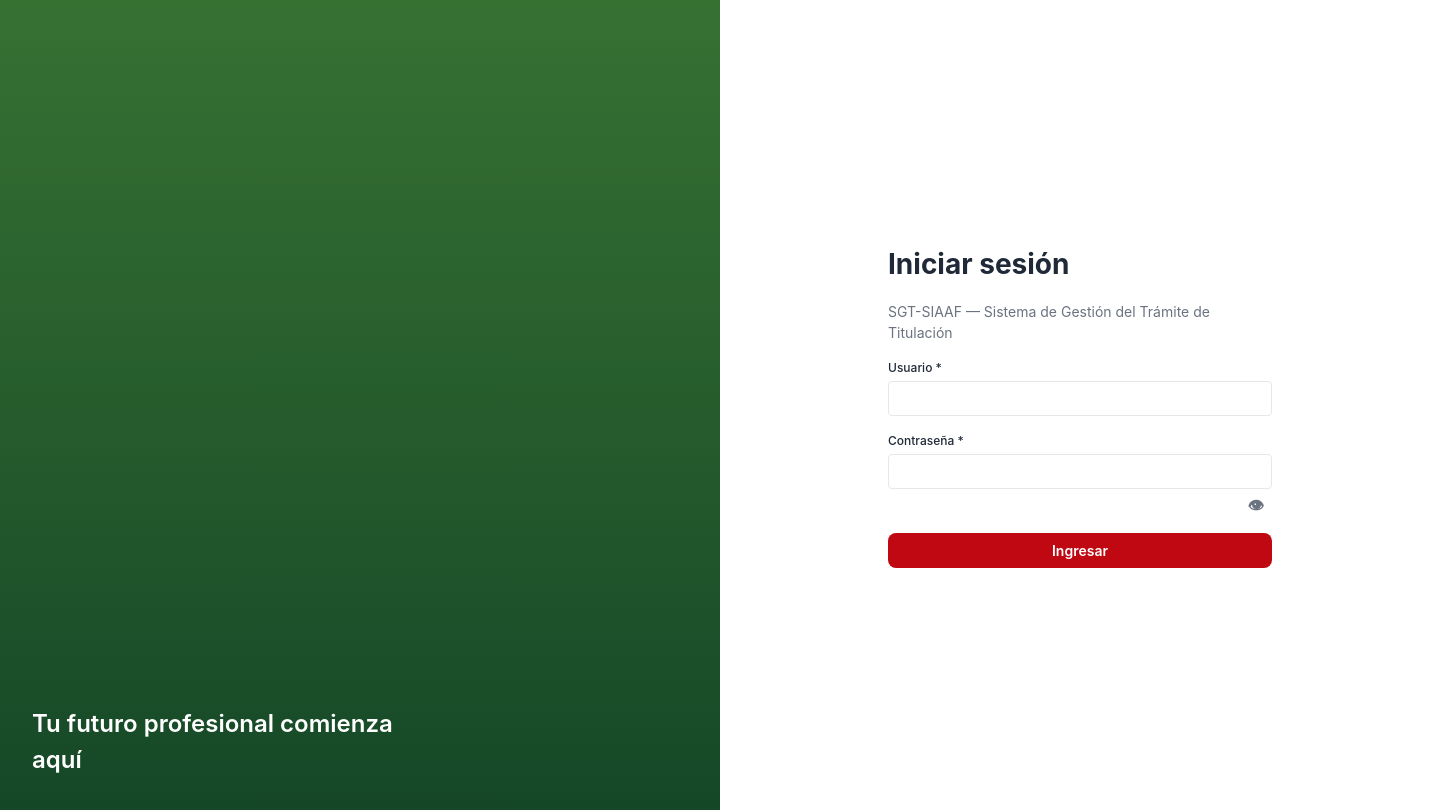
Test: LoginPage (V-01, integración real) › CA-V01-03b: muestra un estado de error ante una falla de red
Type "estudiante.demo" into the field labelled "Usuario *" at {"x": 1080, "y": 398}, box [888,380,1272,416]
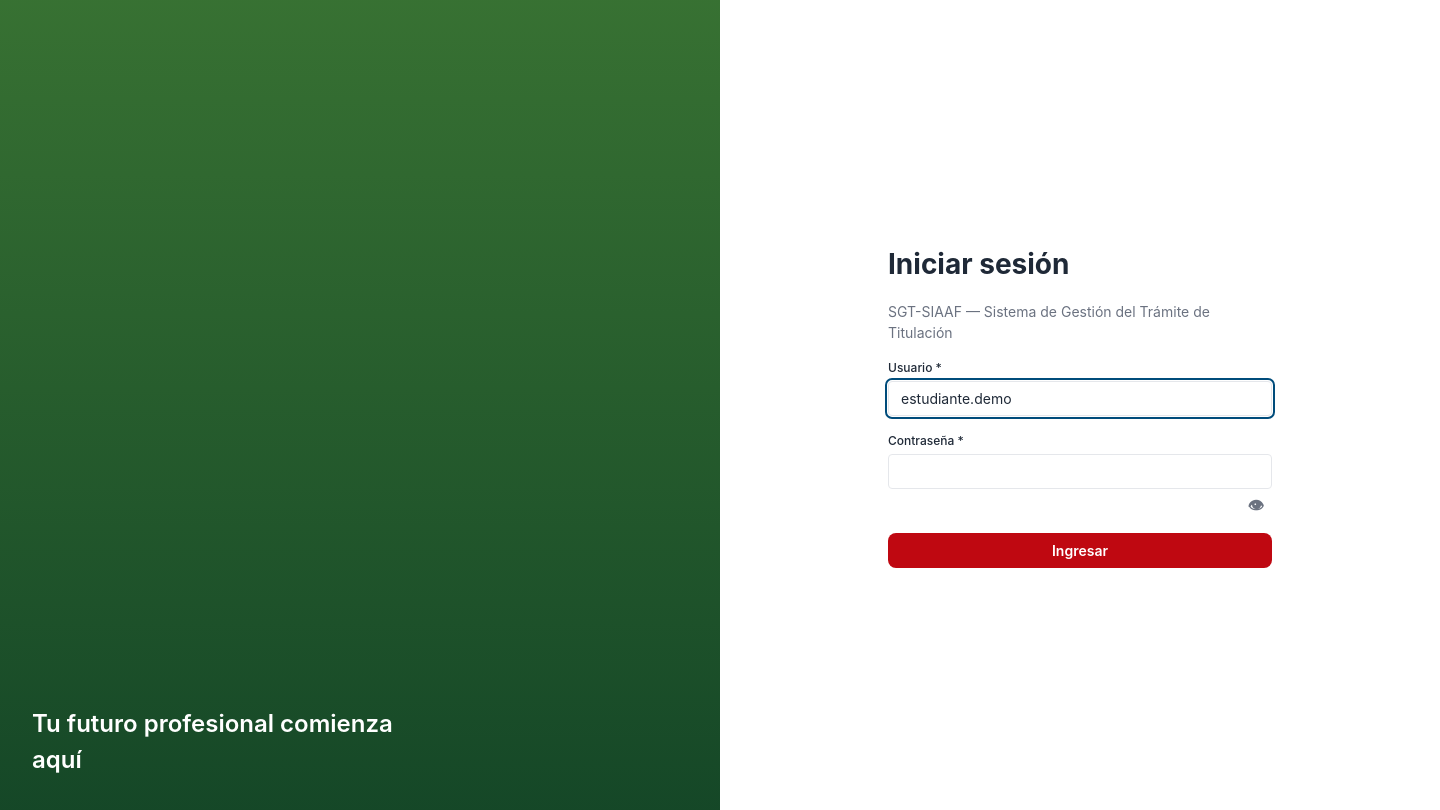
Type "demo-valida" into the password field labelled "Contraseña *" at {"x": 1080, "y": 471}, box [888,454,1272,488]
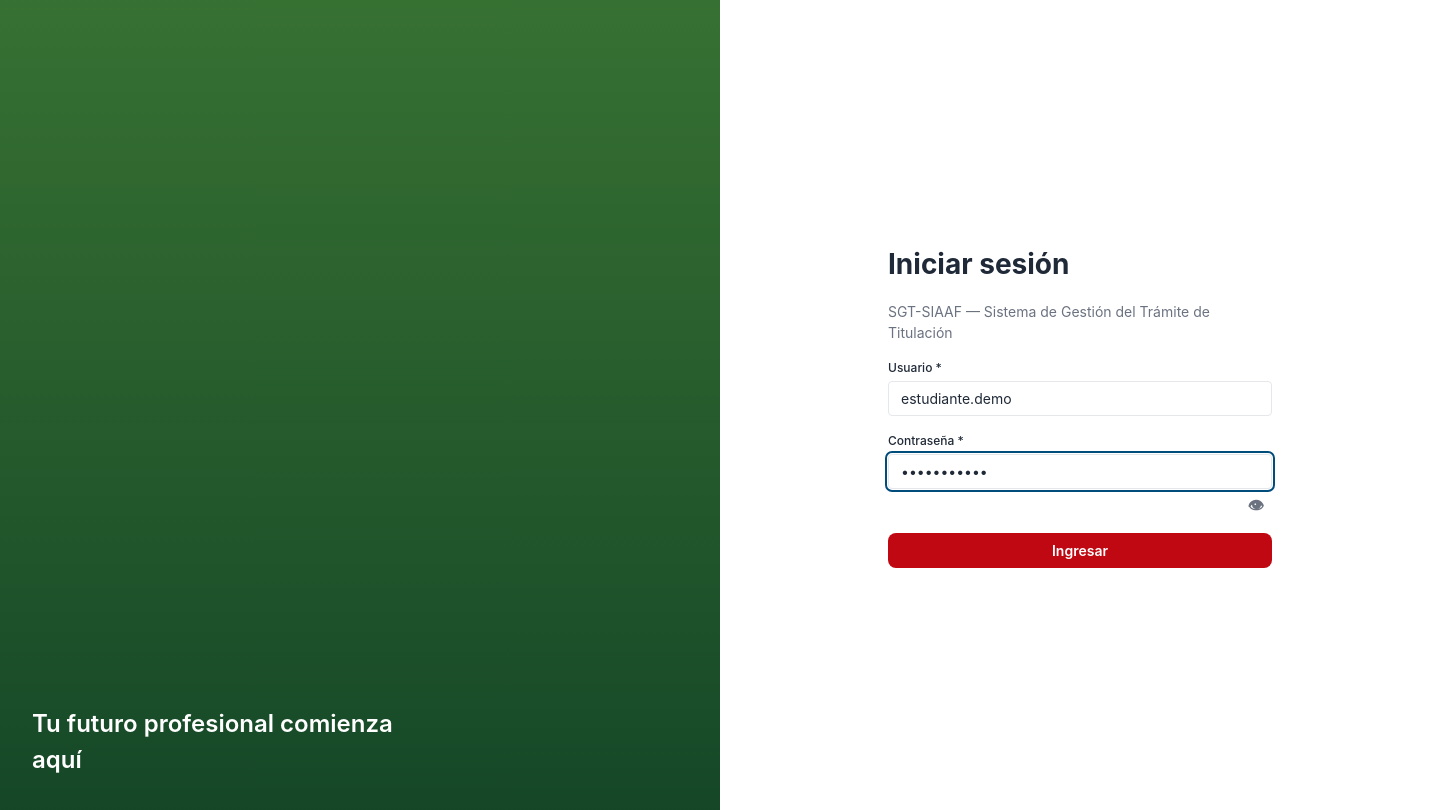
Click the button "Ingresar" at {"x": 1080, "y": 550}, box [888,532,1272,568]
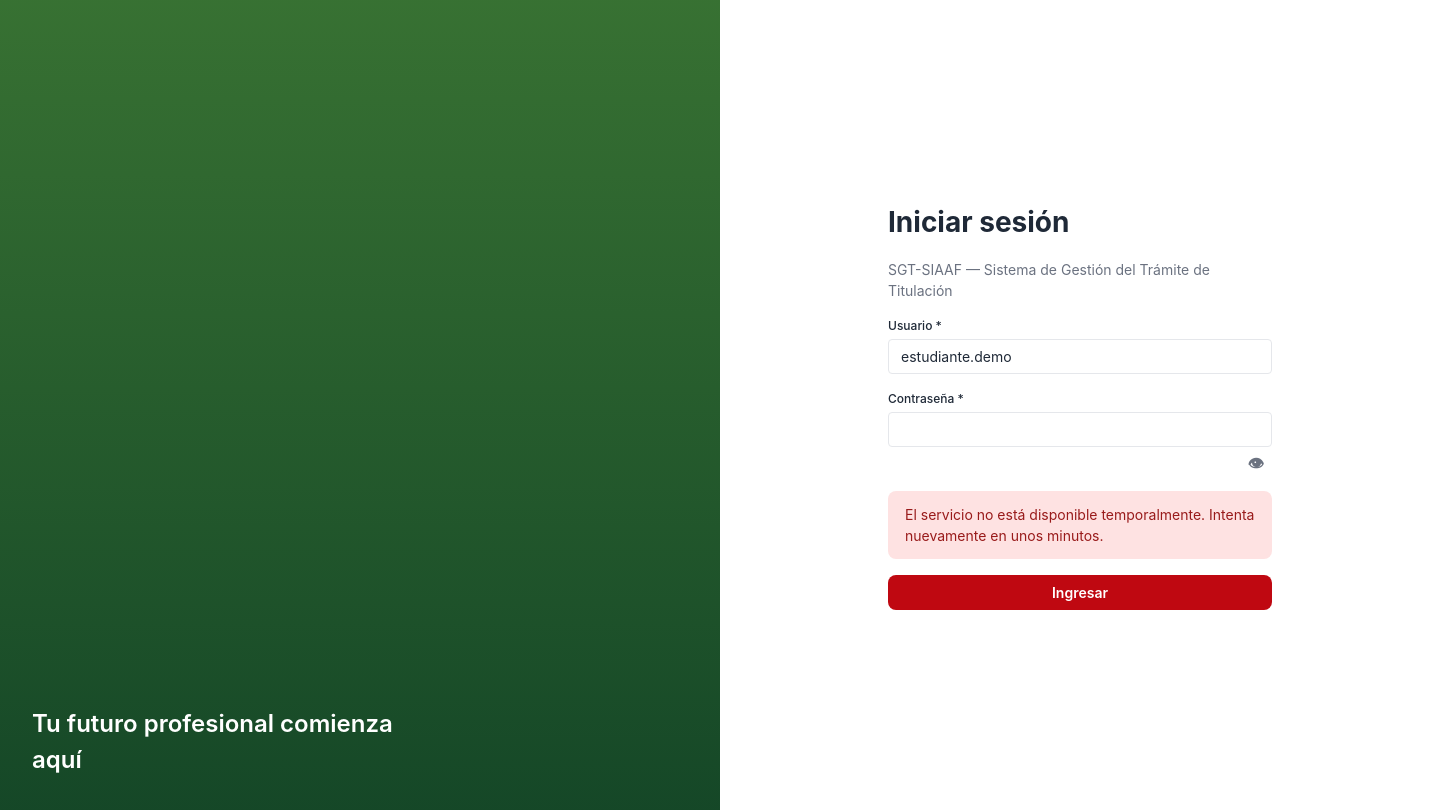
expect the message shows "servicio no está disponible": met, box [905,506,1254,544]
